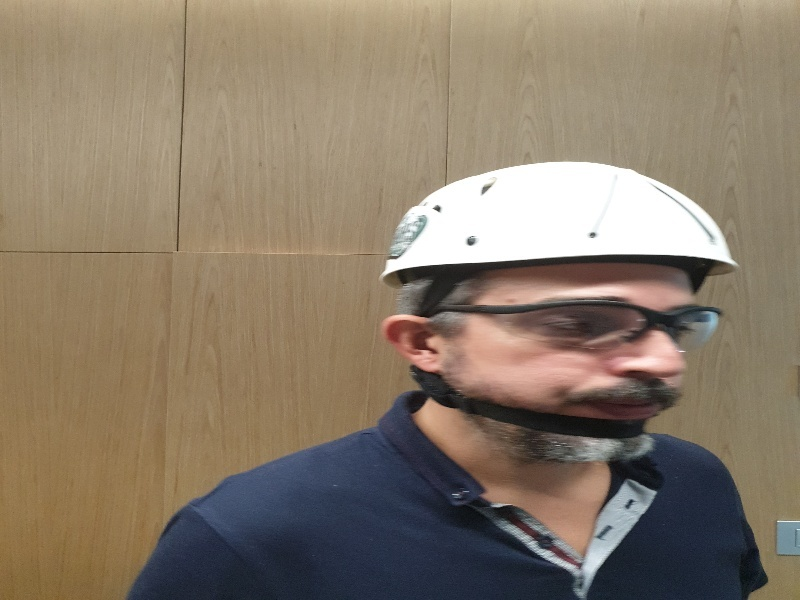Baret: (379, 162, 742, 298)
Gozluk: (429, 294, 728, 354)
